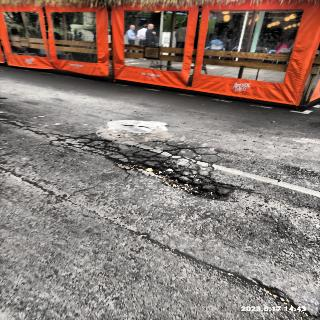alligator-crack: (35, 135, 213, 158), (176, 158, 223, 176)
crack: (88, 207, 313, 316), (0, 166, 82, 209), (1, 117, 35, 134)
pothole: (110, 161, 175, 182), (164, 180, 223, 203)
